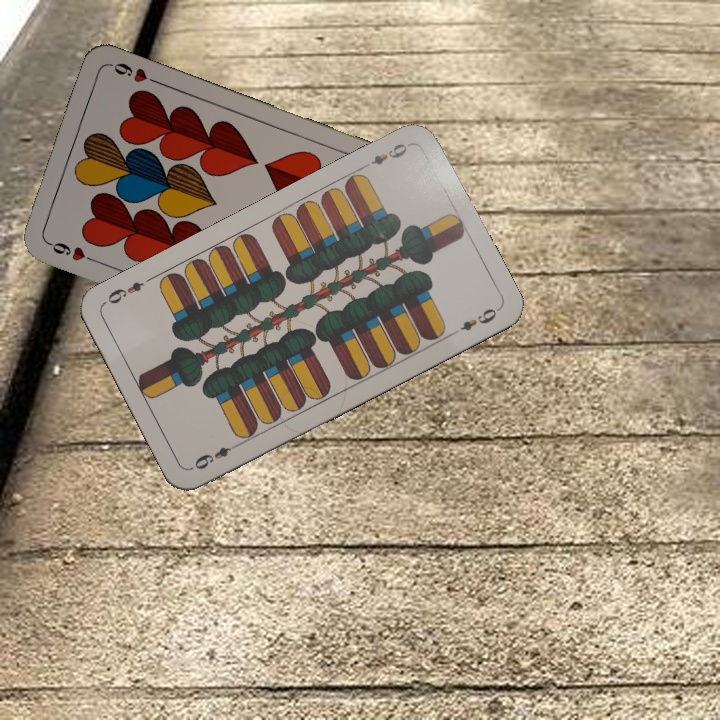E9: (188, 439, 242, 473), (359, 139, 410, 171)
H9: (42, 237, 99, 265)
